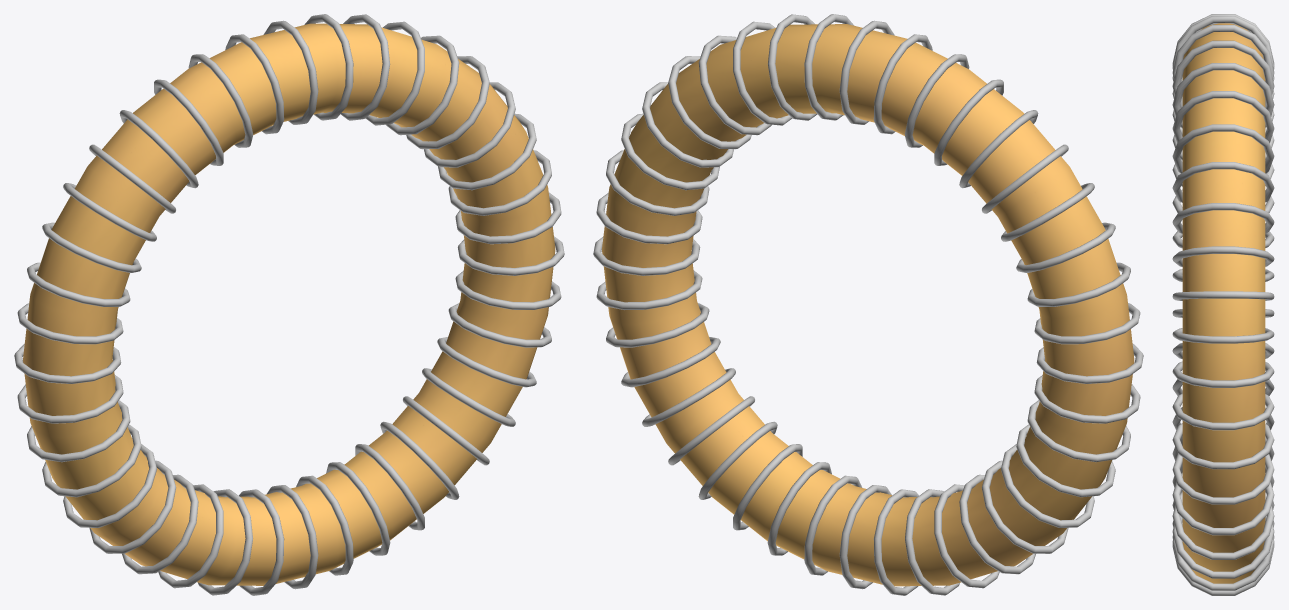
The model's file is 定子绕组.fbx.
3 views of the same model, side by side, from view 1: azimuth 30°, elevation 25°; view 2: azimuth 150°, elevation 25°; view 3: azimuth 270°, elevation 25° (orthographic). The views are drawn at different scales.
Parts seen in each view (by area): view 1: 定子绕组; view 2: 定子绕组; view 3: 定子绕组.
Boxes of the visible parts, x1,y1,x2,y2 form: 定子绕组: (14, 14, 564, 595); 定子绕组: (593, 14, 1143, 595); 定子绕组: (1172, 14, 1274, 595).
Size of the model in its own units: 186 by 186 by 32.53.
Materials: 1 (1 with a texture image).
